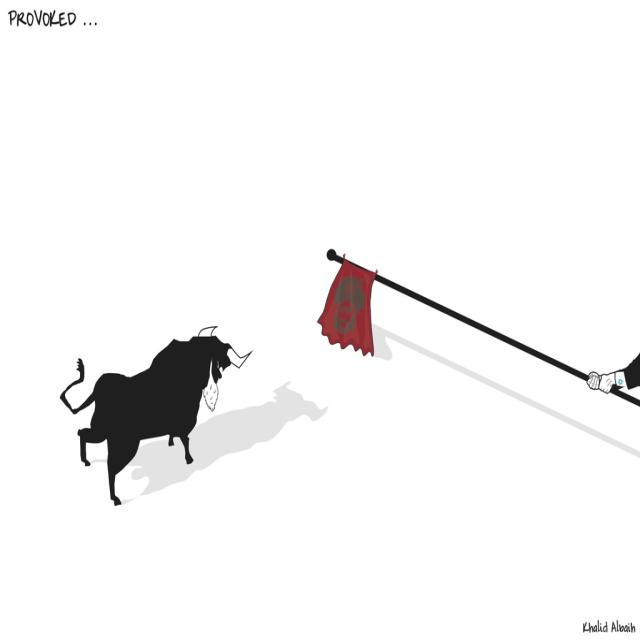Deer: (58, 318, 257, 522)
